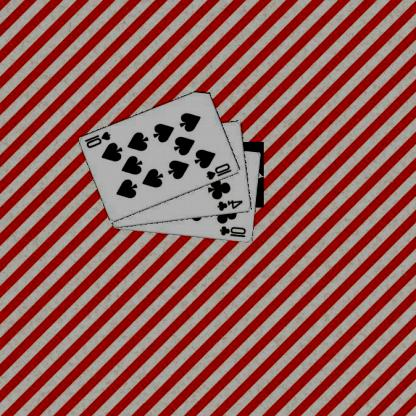10C: (219, 224, 249, 239)
10S: (206, 160, 235, 181), (84, 129, 114, 149)
4C: (216, 198, 246, 212)
